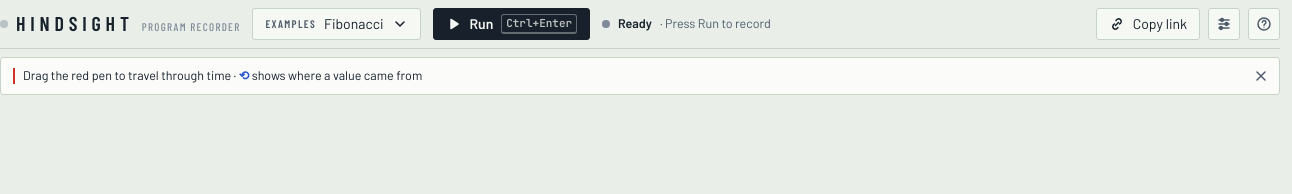
Test case: Header › Escape closes the example menu
This screenshot has width=1292, height=194.
Click the button "Examples Fibonacci" at {"x": 336, "y": 24}, box [252, 8, 420, 40]
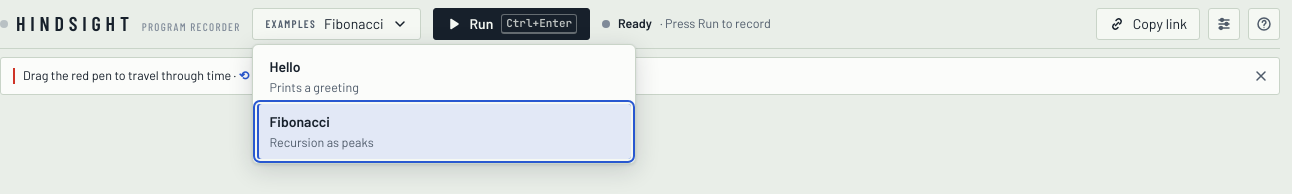
Press Escape
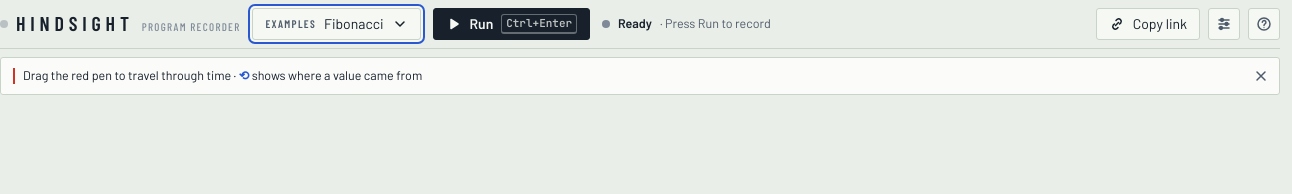
Check: the menu is gone
